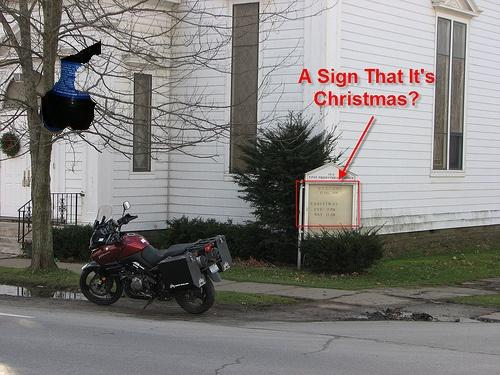tampered: (42, 40, 101, 134)
